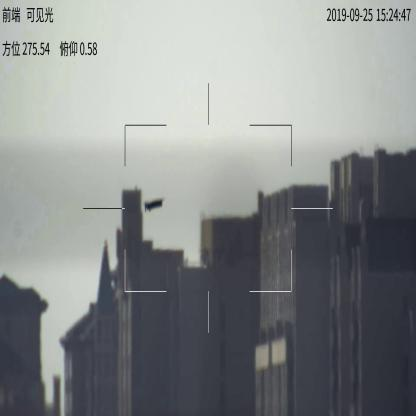uav: (144, 199, 165, 213)
